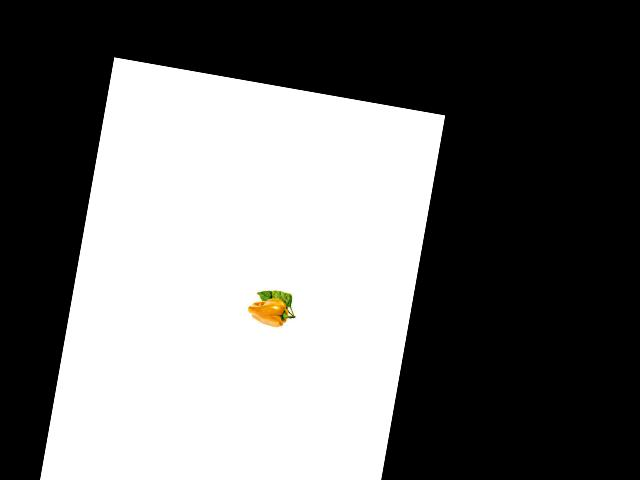bell_pepper: (244, 293, 299, 332)
